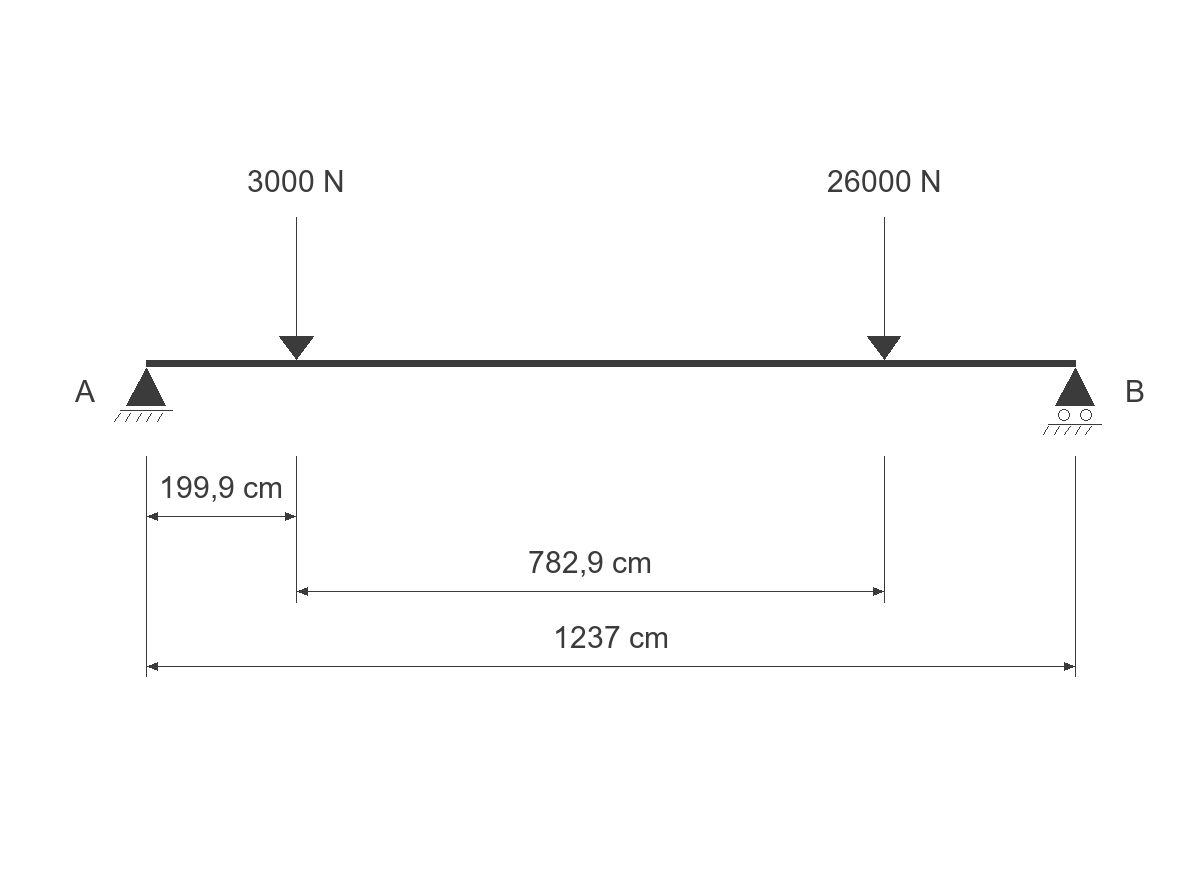pin_support: (114, 368, 173, 422)
point_load: (279, 217, 314, 360), (867, 217, 901, 360)
roller_support: (1043, 368, 1102, 435)
